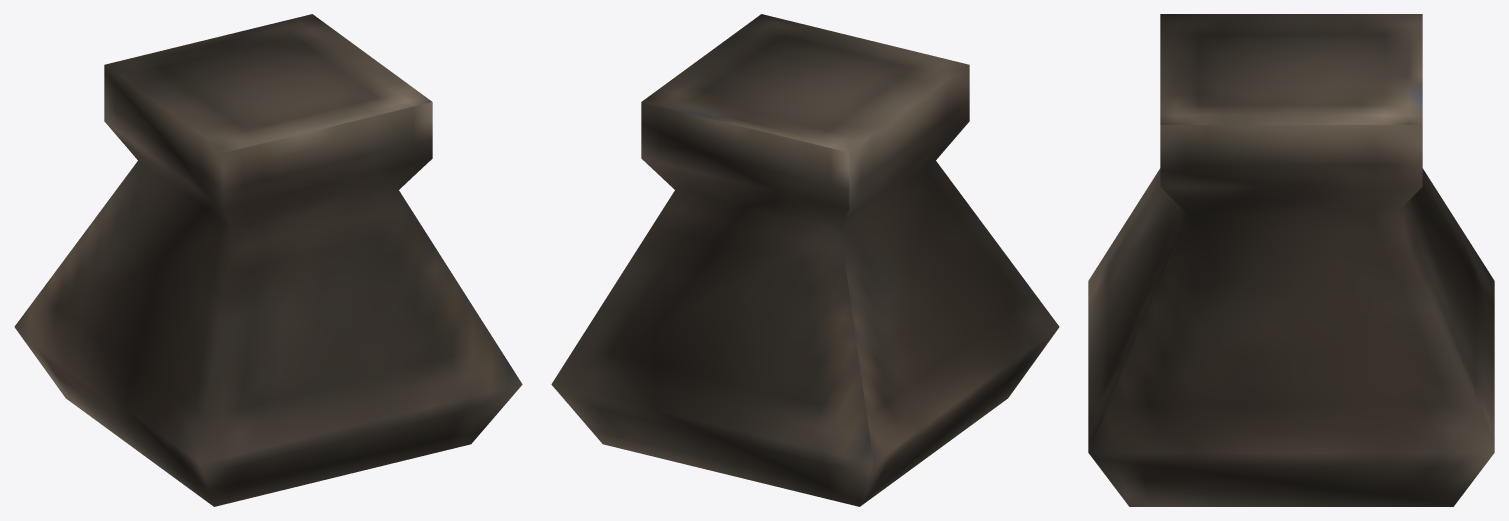
Rendered from ink.FBX.
3 views of the same model, side by side, from view 1: azimuth 30°, elevation 25°; view 2: azimuth 150°, elevation 25°; view 3: azimuth 270°, elevation 25° (orthographic). The views are drawn at different scales.
Parts seen in each view (by area): view 1: Object118; view 2: Object118; view 3: Object118.
Part boxes in pixels (x1,y1,x2,y2): Object118: (14,14,522,506); Object118: (551,14,1059,506); Object118: (1088,14,1494,506).
Bounding box in the file's own units: 0.1089 × 0.1091 × 0.1089.
